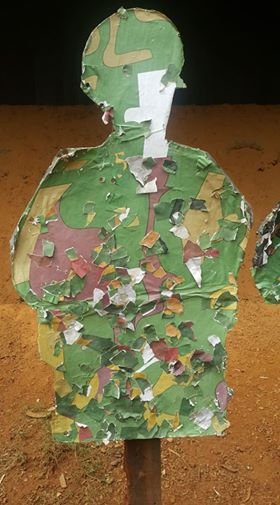Bullet: (97, 102, 105, 109), (98, 177, 105, 184), (85, 82, 90, 91), (110, 178, 116, 185), (62, 431, 69, 437)
